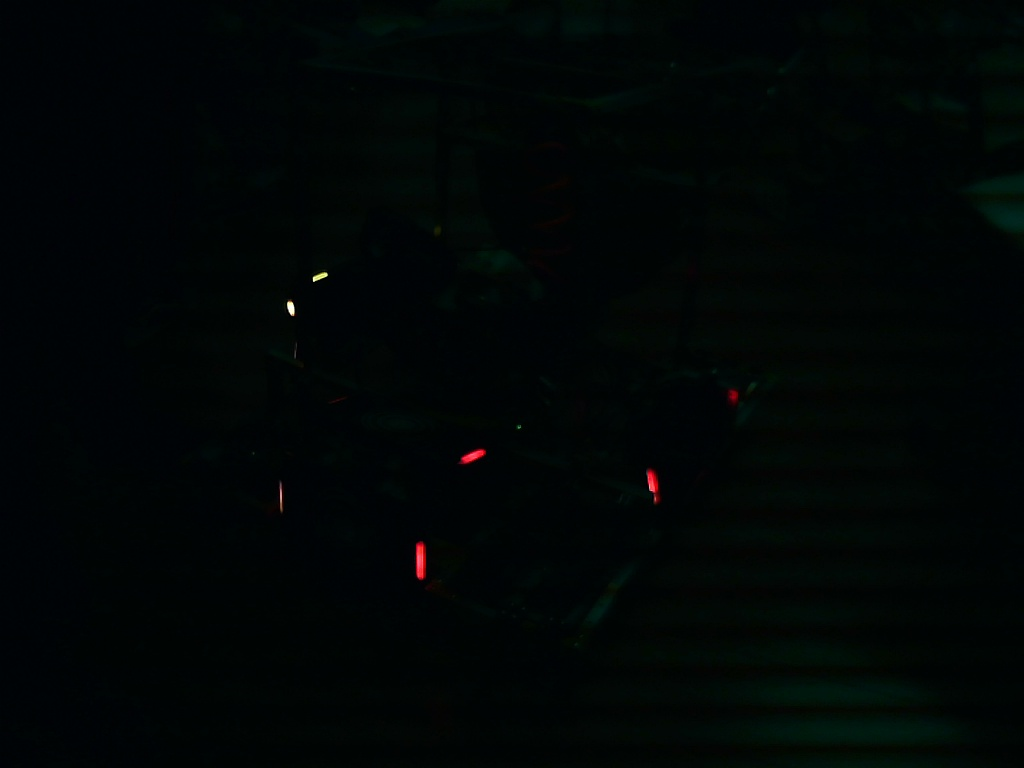lamp: (410, 538, 431, 583)
